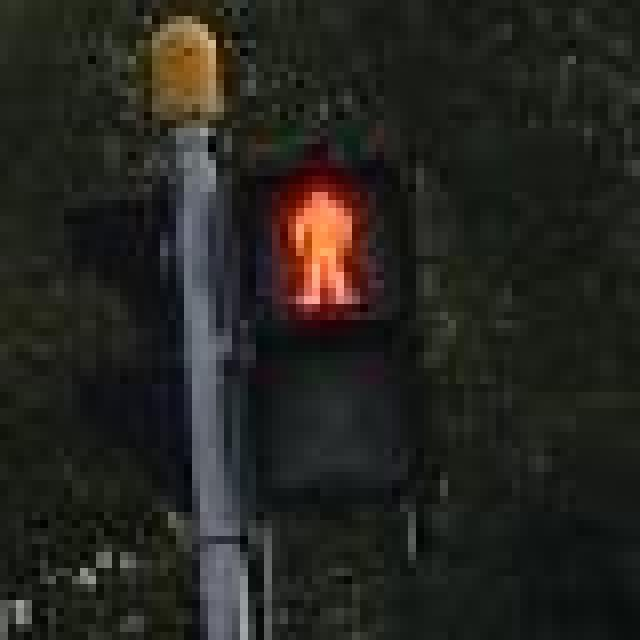redlight: (216, 136, 424, 520)
